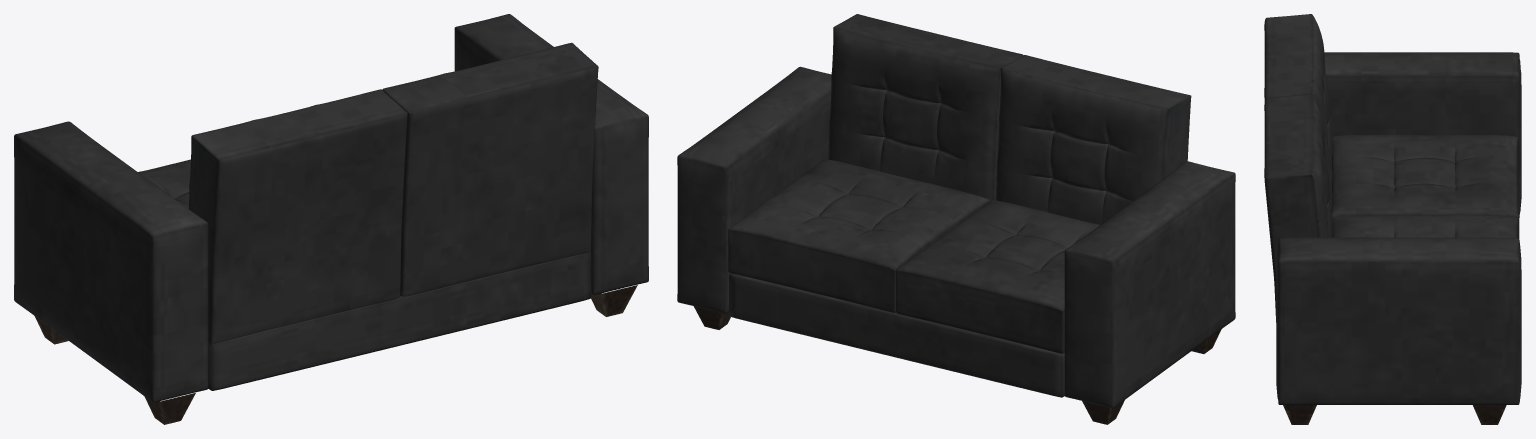
The model's file is Sofa35.glb.
The picture shows the model from 3 angles, left to right: view 1: azimuth 30°, elevation 25°; view 2: azimuth 150°, elevation 25°; view 3: azimuth 270°, elevation 25°; orthographic projection. The views are drawn at different scales.
Visible parts, largest first — view 1: Sofa35_model; view 2: Sofa35_model; view 3: Sofa35_model.
Boxes of the visible parts, x1,y1,x2,y2 form: Sofa35_model: (14,14,648,424); Sofa35_model: (677,14,1235,424); Sofa35_model: (1264,14,1521,424).
Bounding box in the file's own units: 3.22 × 1.67 × 1.66.
1 material, 1 textured.
